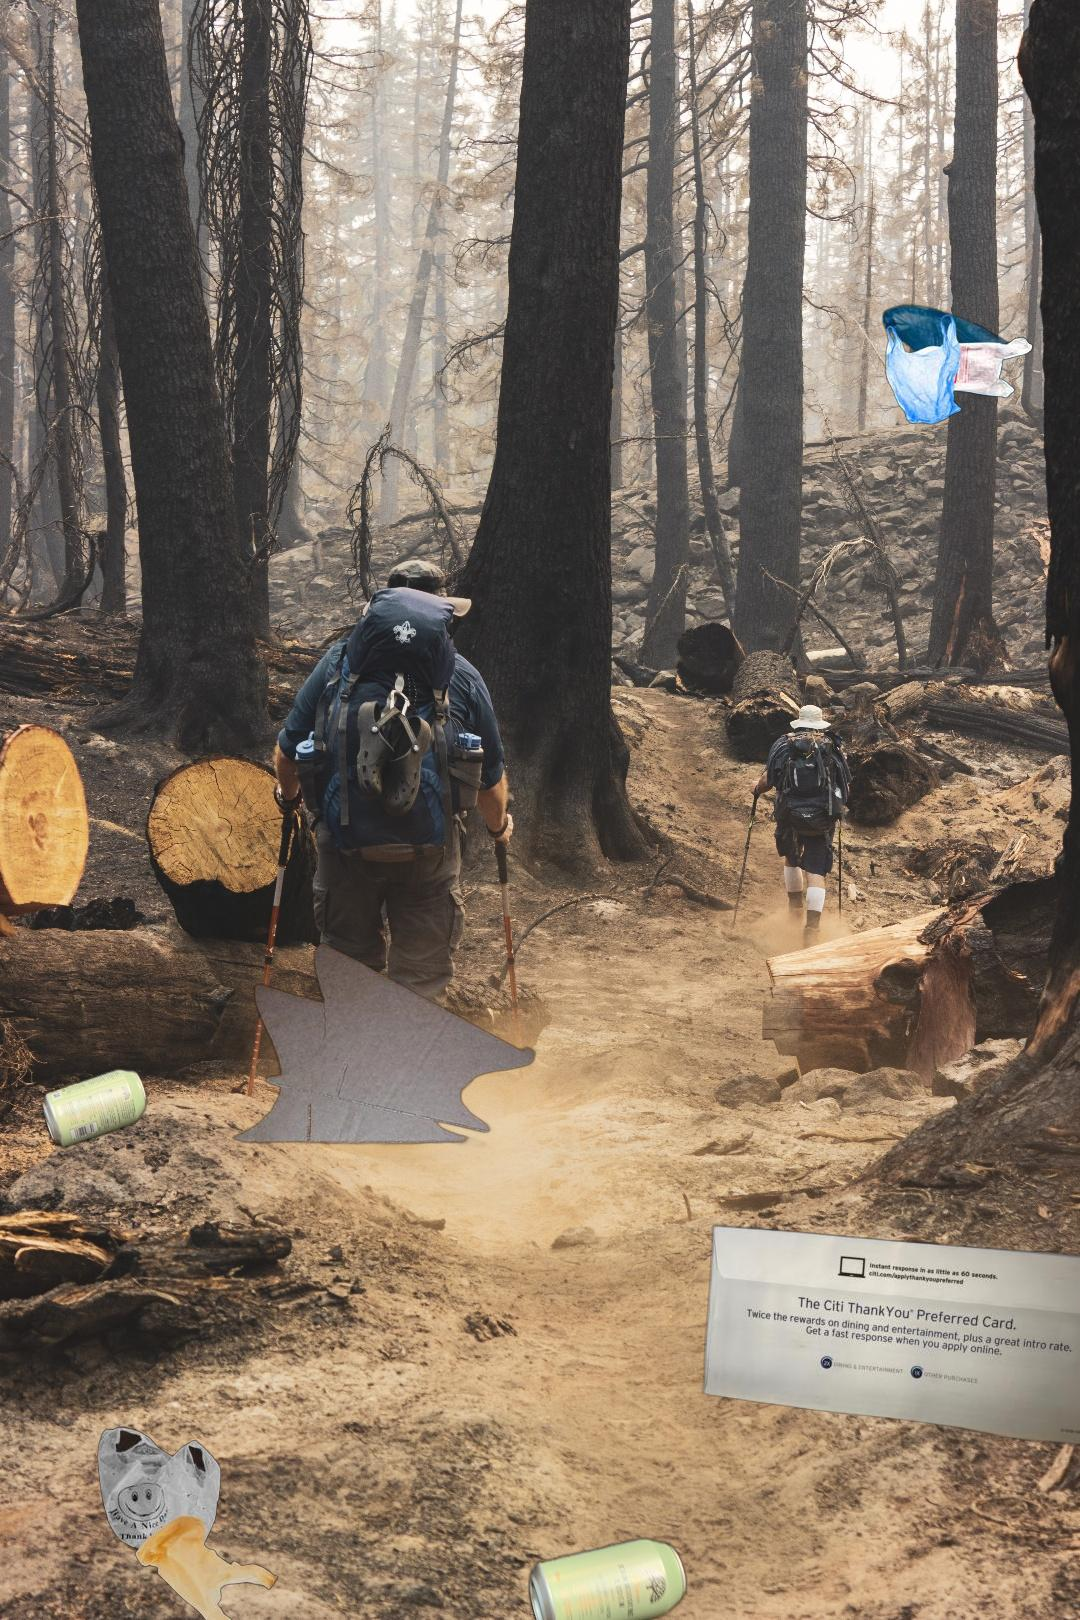metal-cans: (875, 1134, 1080, 1471), (526, 1532, 691, 1620), (37, 1063, 151, 1154)
paper: (698, 1222, 1080, 1448)
plastic-bag: (96, 1424, 281, 1620), (880, 303, 1035, 425)
trashbox-cardboard: (155, 906, 560, 1251)
